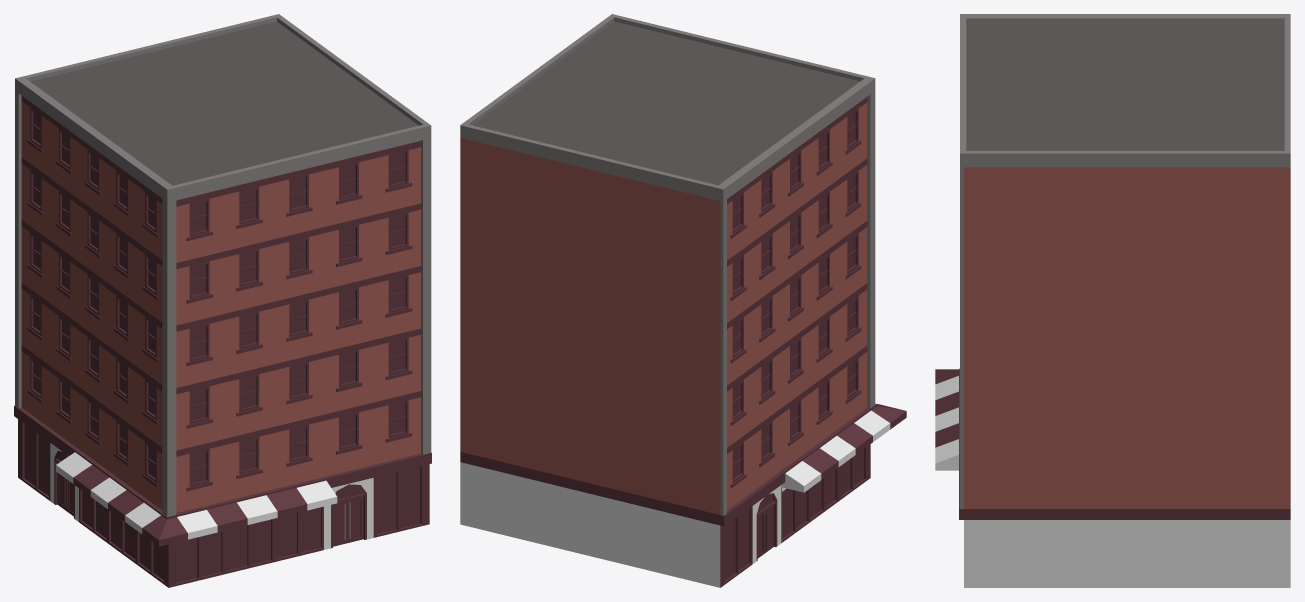
File: Building 5 étages coin.fbx
The picture shows the model from 3 angles, left to right: view 1: azimuth 30°, elevation 25°; view 2: azimuth 150°, elevation 25°; view 3: azimuth 270°, elevation 25°; orthographic projection. The views are drawn at different scales.
Visible parts, largest first — view 1: building-block-5floor-corner; view 2: building-block-5floor-corner; view 3: building-block-5floor-corner.
Part boxes in pixels (<box>): building-block-5floor-corner: <box>14,14,431,587</box>; building-block-5floor-corner: <box>460,14,906,587</box>; building-block-5floor-corner: <box>935,14,1290,587</box>.
Bounding box in the file's own units: 1425 × 1920 × 1425.
